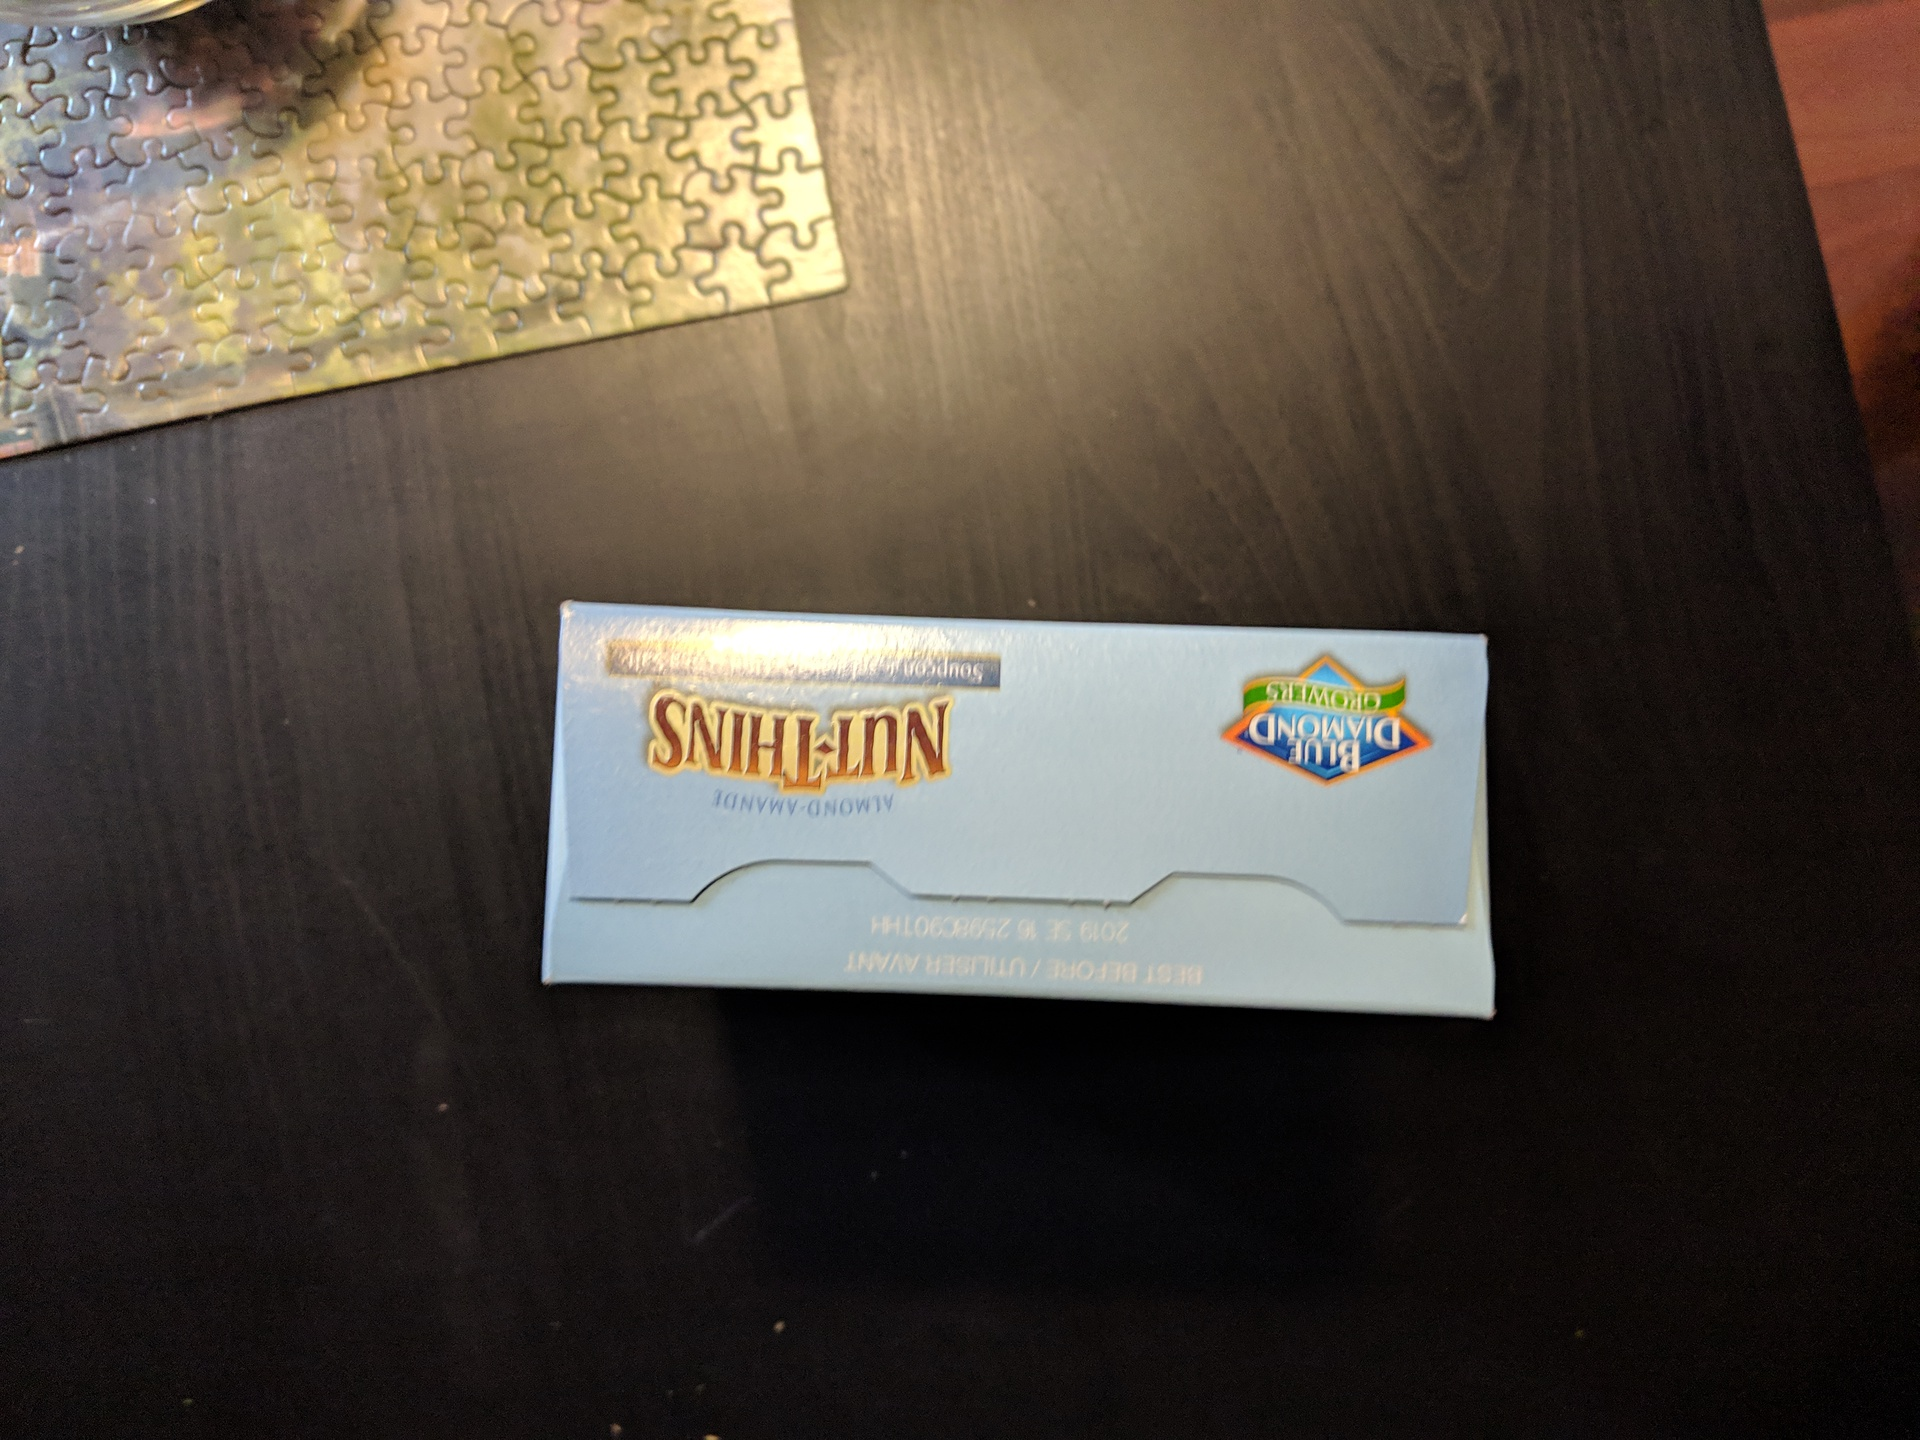blue_diamond_nut_thins_almond_seasalt: (552, 632, 1485, 983)
